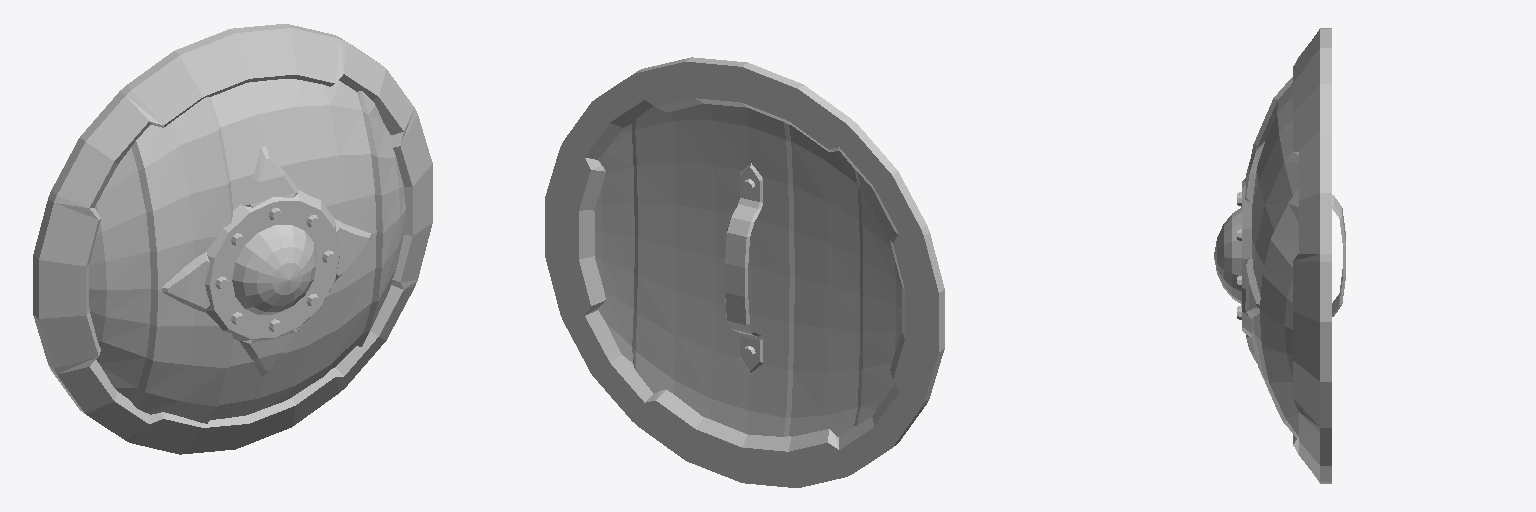
The model's file is Shield_Wooden.obj.
The picture shows the model from 3 angles: view 1: azimuth 30°, elevation 25°; view 2: azimuth 150°, elevation 25°; view 3: azimuth 270°, elevation 25°; orthographic projection.
Parts seen in each view (by area): view 1: Shield_Wooden_Cube.193; view 2: Shield_Wooden_Cube.193; view 3: Shield_Wooden_Cube.193.
Part boxes in pixels (x1,y1,x2,y2): Shield_Wooden_Cube.193: (33, 24, 432, 454); Shield_Wooden_Cube.193: (545, 57, 944, 487); Shield_Wooden_Cube.193: (1214, 28, 1345, 483).
Size of the model in its own units: 0.6146 by 0.6209 by 0.1788.